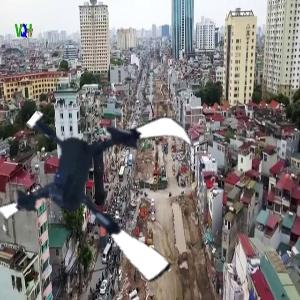drone: (3, 88, 208, 293)
